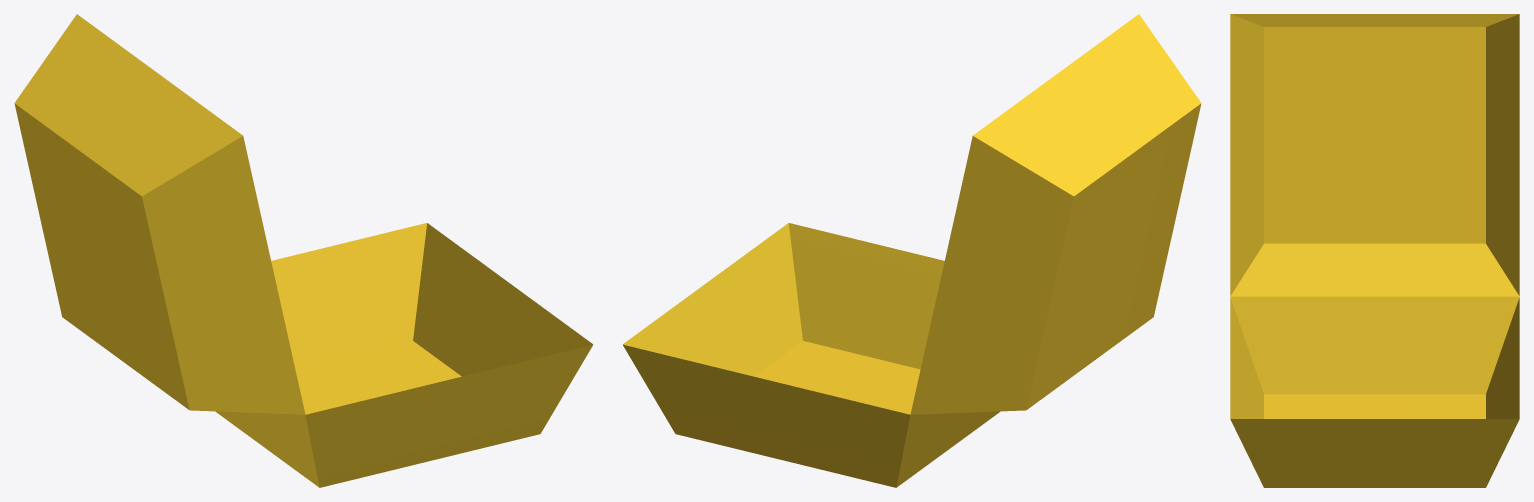
Rendered from Burger Box.fbx.
3 views of the same model, side by side, from view 1: azimuth 30°, elevation 25°; view 2: azimuth 150°, elevation 25°; view 3: azimuth 270°, elevation 25° (orthographic). The views are drawn at different scales.
Parts seen in each view (by area): view 1: Burger_Box; view 2: Burger_Box; view 3: Burger_Box.
Boxes of the visible parts, x1,y1,x2,y2 form: Burger_Box: [14, 14, 593, 487]; Burger_Box: [622, 14, 1201, 487]; Burger_Box: [1230, 14, 1519, 487].
Size of the model in its own units: 35.74 by 30.8 by 23.82.
Materials: 1 (1 with a texture image).
